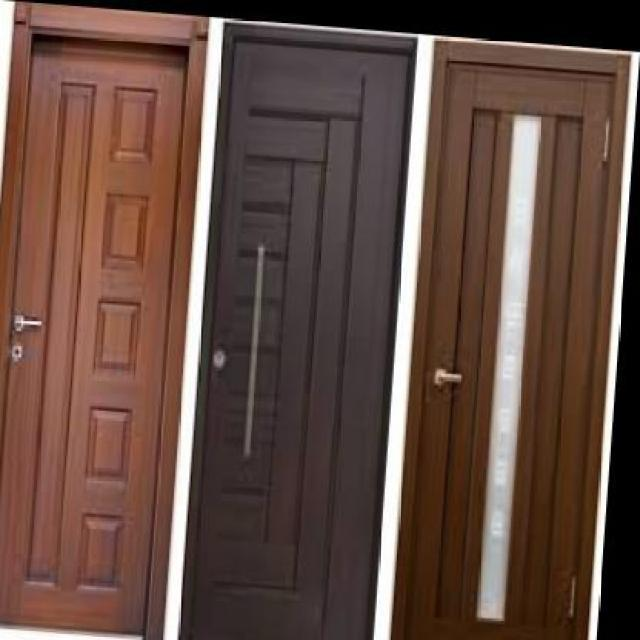door: (173, 35, 412, 640), (397, 56, 617, 640), (0, 26, 175, 640)
